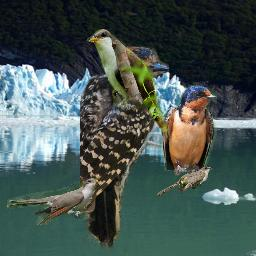Cuckoo: (84, 29, 175, 138), (7, 178, 98, 225), (157, 166, 213, 196)
Swallow: (161, 85, 217, 182)
Woodpecker: (80, 44, 169, 251)
